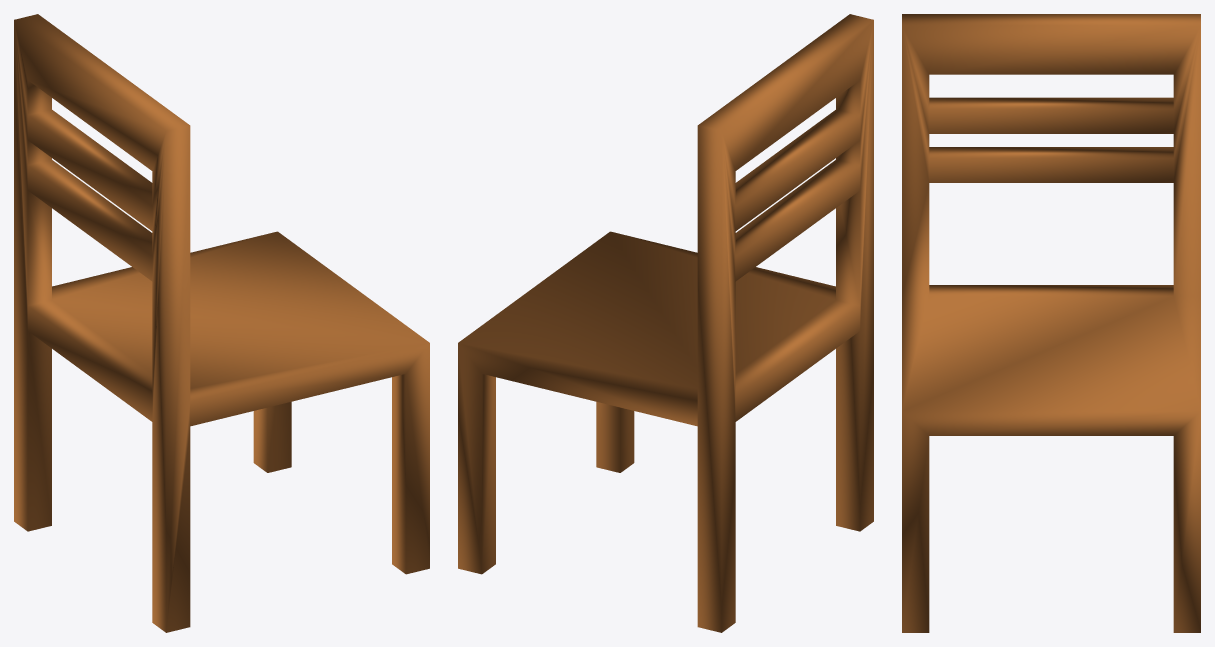
File: SimpleChair.obj
3 renders of one model, left to right at view 1: azimuth 30°, elevation 25°; view 2: azimuth 150°, elevation 25°; view 3: azimuth 270°, elevation 25°, orthographic.
Size of the model in its own units: 0.55 by 1 by 0.55.
